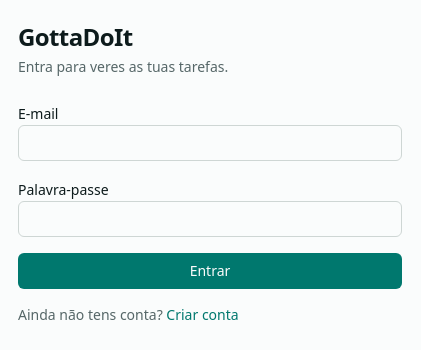
LoginPage › mostra o erro do campo quando o login falha
Type "ana@example.com" into the field labelled "E-mail" at (210, 143), box left=18, top=125, right=402, bottom=161
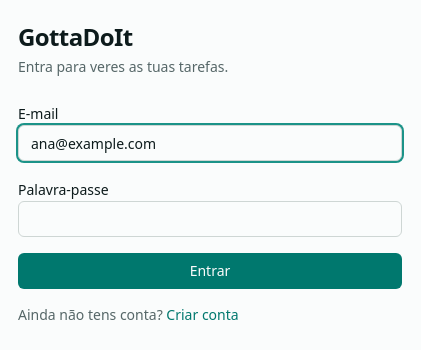
Type "errada-123" into the password field labelled "Palavra-passe" at (210, 219), box left=18, top=201, right=402, bottom=237
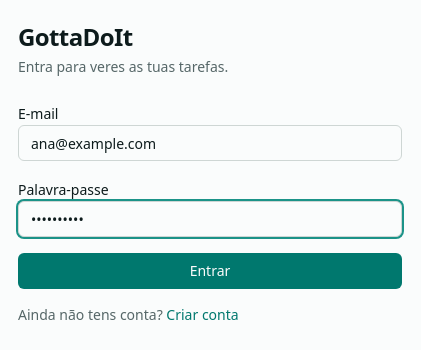
Click the button "Entrar" at (210, 271), box left=18, top=253, right=402, bottom=289
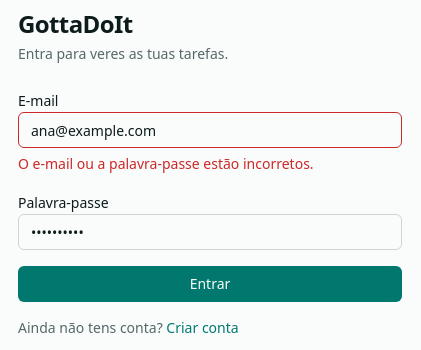
Now the text "O e-mail ou a palavra-passe estão incorretos." is shown, box left=18, top=154, right=314, bottom=173
